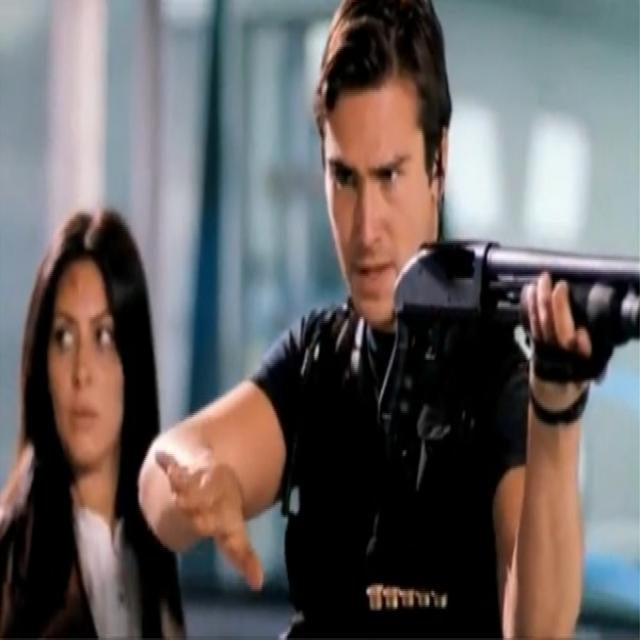rifle: (376, 243, 640, 443)
